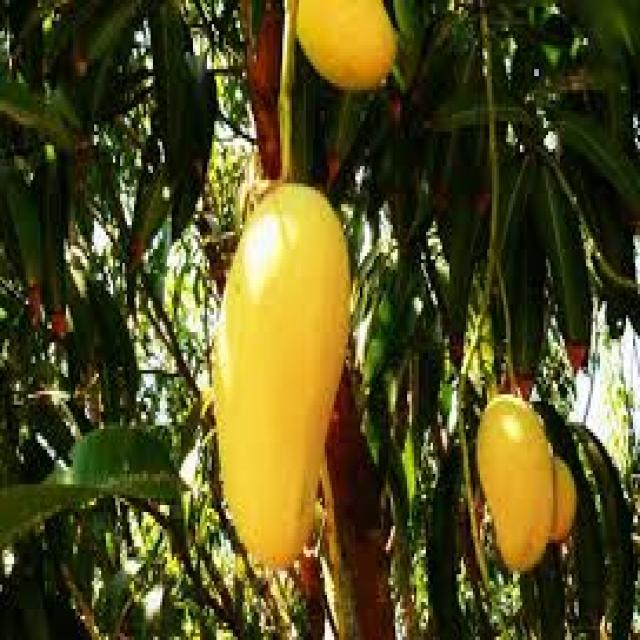mango: (209, 183, 351, 571)
